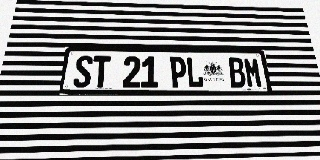1: (141, 56, 158, 88)
2: (123, 56, 141, 88)
B: (227, 57, 247, 88)
L: (186, 57, 204, 88)
M: (243, 58, 263, 88)
P: (169, 57, 187, 88)
S: (73, 56, 93, 88)
T: (91, 56, 111, 88)
